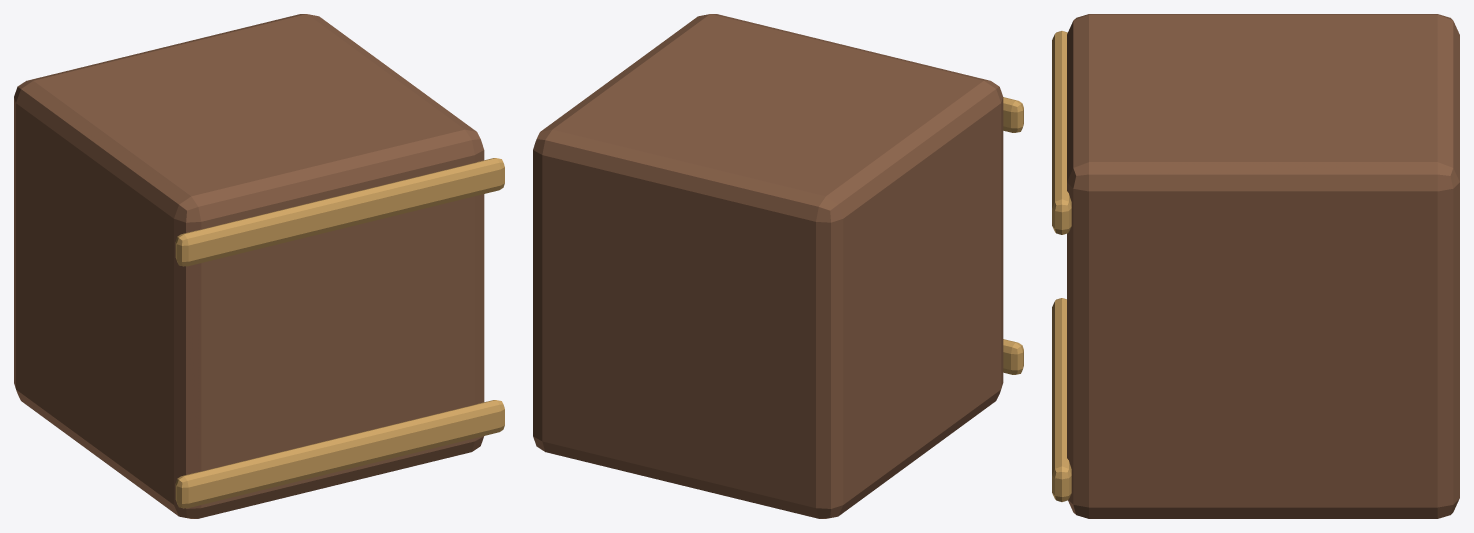
File: platform_crate.glb
The picture shows the model from 3 angles, left to right: view 1: azimuth 30°, elevation 25°; view 2: azimuth 150°, elevation 25°; view 3: azimuth 270°, elevation 25°; orthographic projection. The views are drawn at different scales.
Visible parts, largest first — view 1: platform_crate_timber, platform_crate_brass; view 2: platform_crate_timber, platform_crate_brass; view 3: platform_crate_timber, platform_crate_brass.
Part boxes in pixels (box(x1,y1,x2,y2)): platform_crate_timber: box(14, 14, 484, 518); platform_crate_brass: box(175, 158, 504, 508); platform_crate_timber: box(533, 14, 1003, 518); platform_crate_brass: box(1003, 97, 1023, 374); platform_crate_timber: box(1067, 14, 1459, 518); platform_crate_brass: box(1052, 31, 1071, 501).
Bounding box in the file's own units: 0.85 × 0.8 × 0.83.
